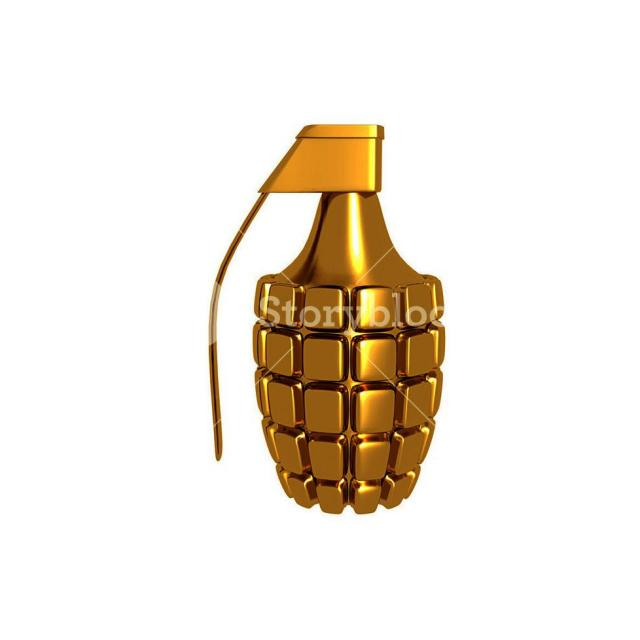grenade: (209, 124, 444, 512)
